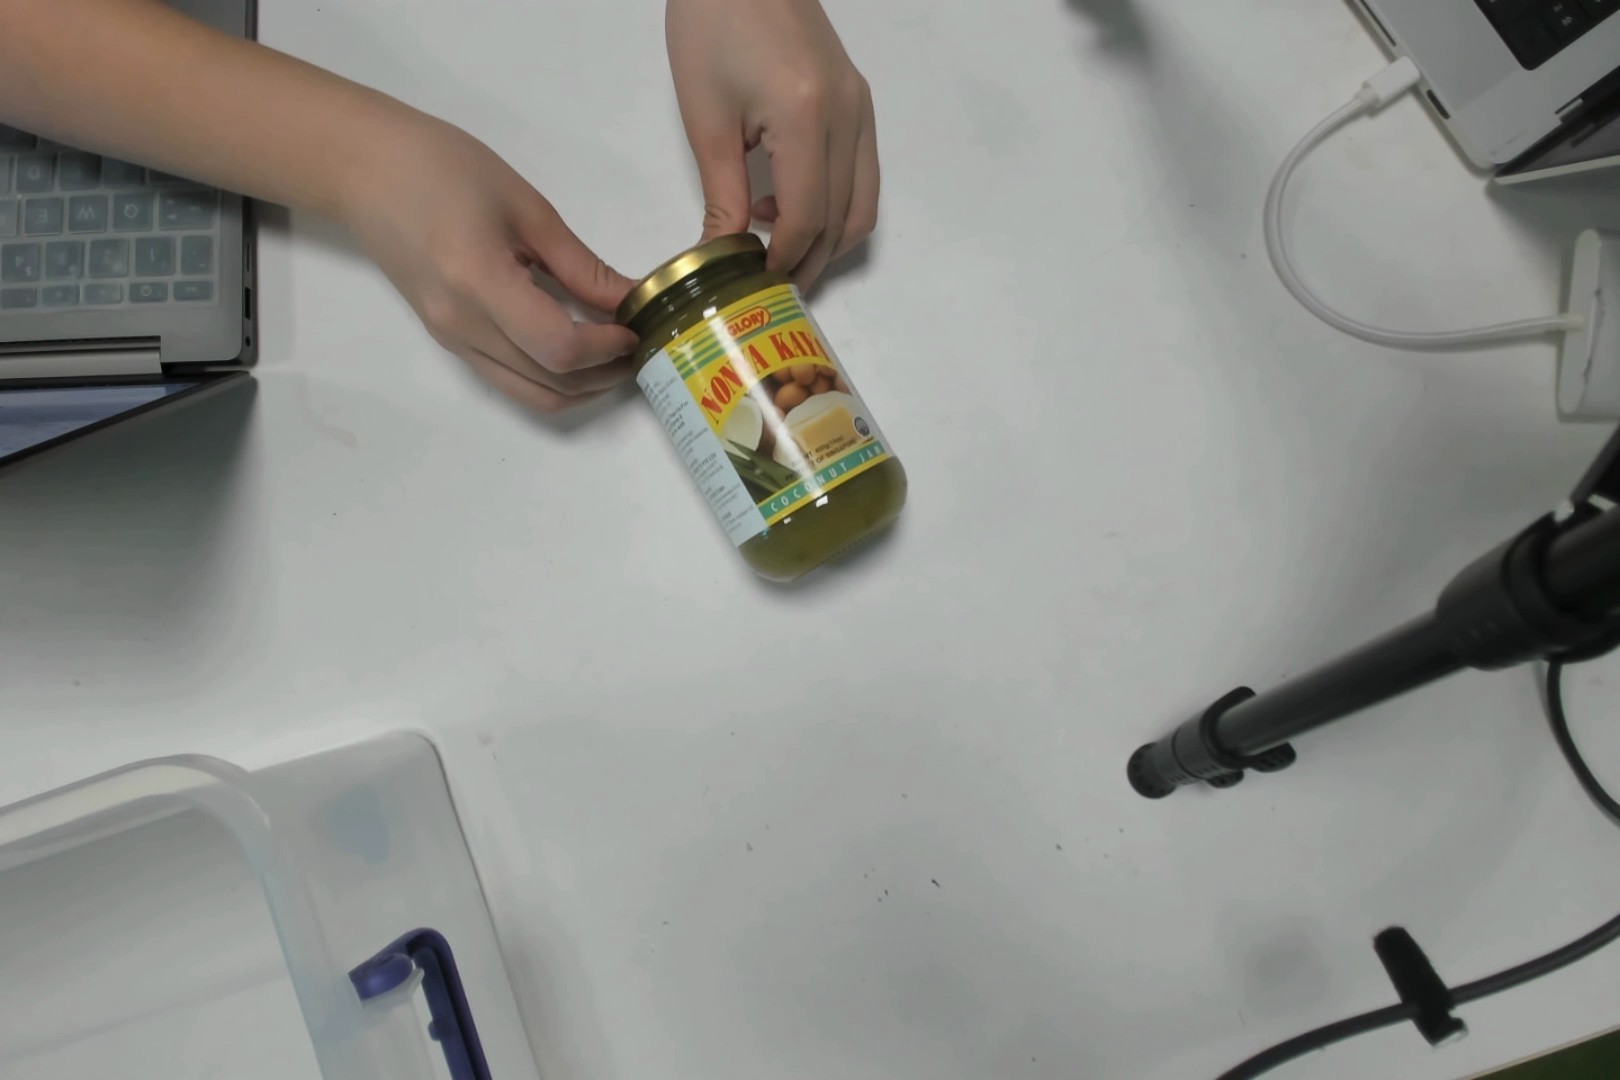Kaya_400-499g_Halal_NonHealthy: (655, 240, 918, 597)
